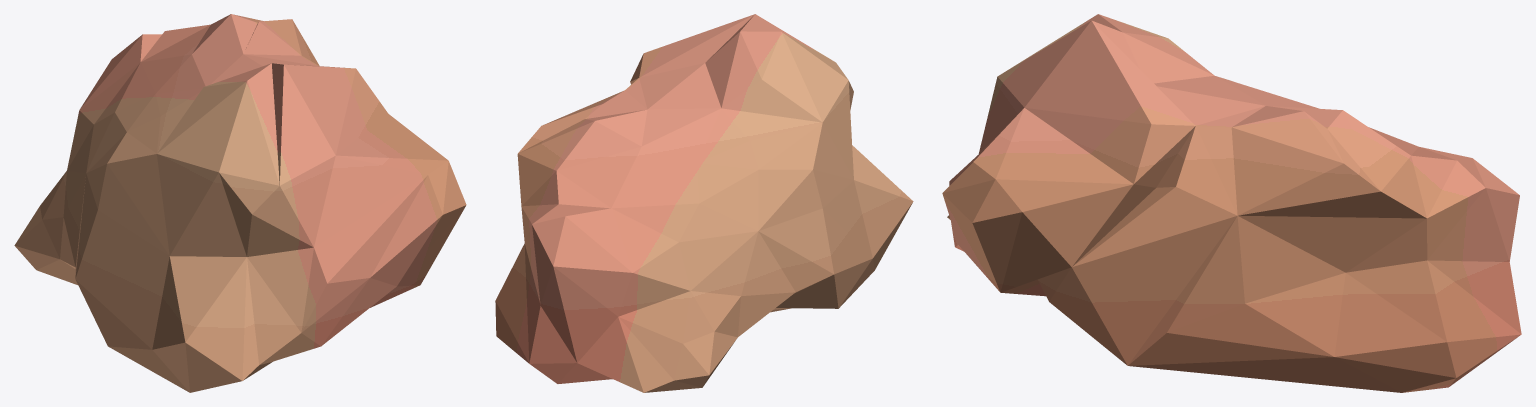
Rendered from DC_Rock2.fbx.
The picture shows the model from 3 angles, left to right: view 1: azimuth 30°, elevation 25°; view 2: azimuth 150°, elevation 25°; view 3: azimuth 270°, elevation 25°; orthographic projection. The views are drawn at different scales.
Visible parts, largest first — view 1: Rock2; view 2: Rock2; view 3: Rock2.
Boxes of the visible parts, box(x1,y1,x2,y2) form: Rock2: box(14, 14, 466, 392); Rock2: box(495, 14, 913, 392); Rock2: box(942, 14, 1521, 392).
Bounding box in the file's own units: 0.5877 × 0.6167 × 0.9625.
Materials: 1 (1 with a texture image).
